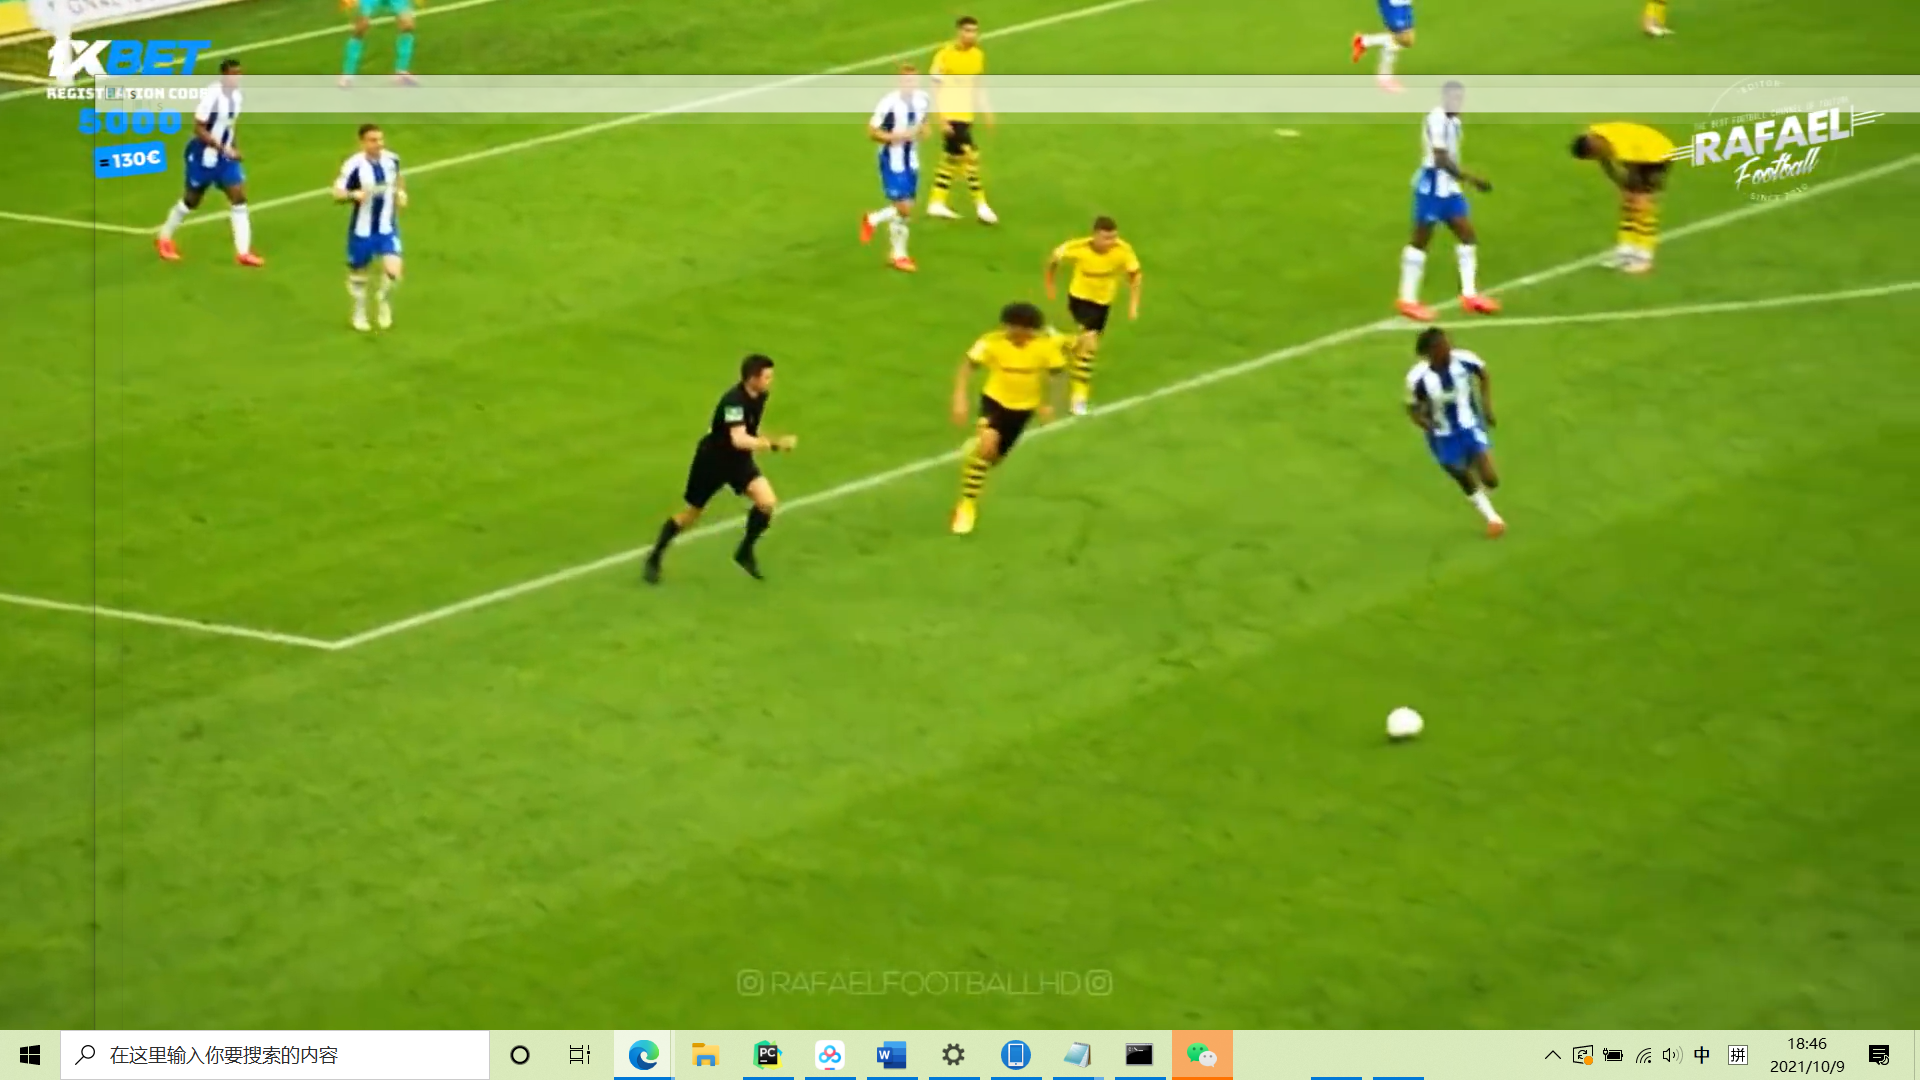ft: (1382, 704, 1425, 746)
